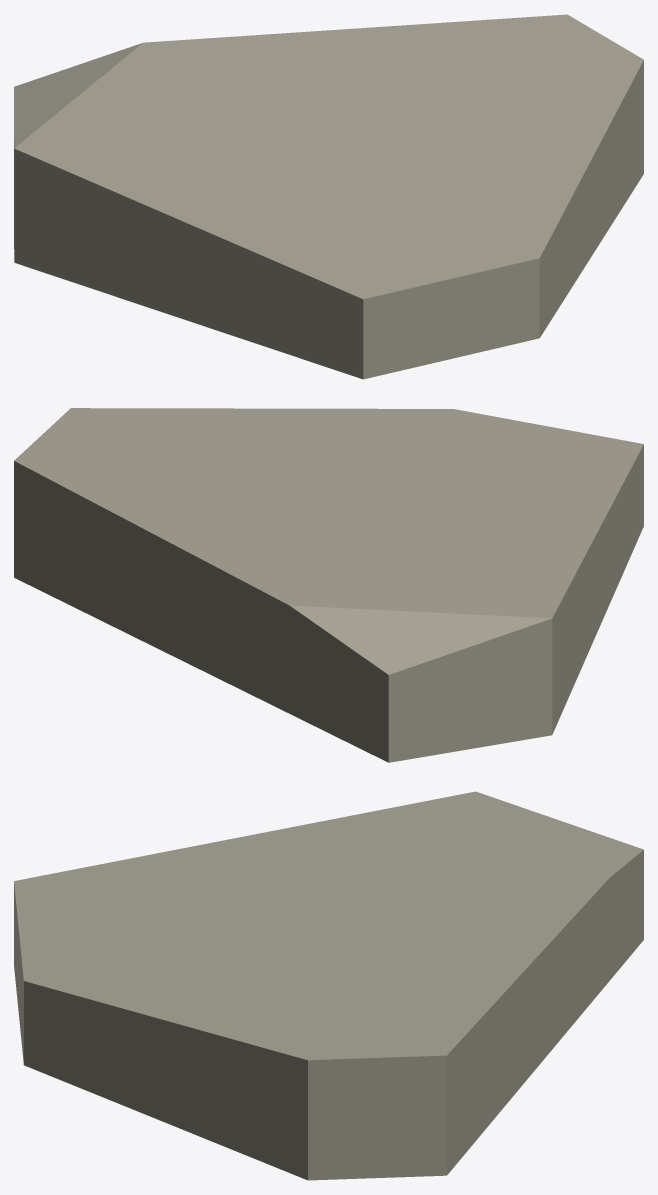
Rendered from Rock9_tex.fbx.
3 renders of one model, top to bottom at view 1: azimuth 30°, elevation 25°; view 2: azimuth 150°, elevation 25°; view 3: azimuth 270°, elevation 25°, orthographic. The views are drawn at different scales.
Parts seen in each view (by area): view 1: Rock9_tex; view 2: Rock9_tex; view 3: Rock9_tex.
Part boxes in pixels (bbox=[...]): Rock9_tex: bbox=[14, 14, 643, 379]; Rock9_tex: bbox=[14, 408, 643, 762]; Rock9_tex: bbox=[14, 791, 643, 1180].
Bounding box in the file's own units: 0.2985 × 0.0659 × 0.2814.
